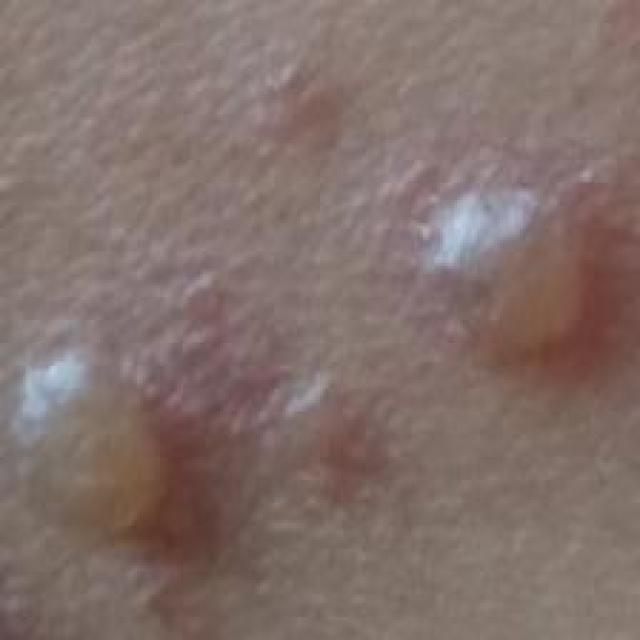others: (0, 71, 607, 640)
